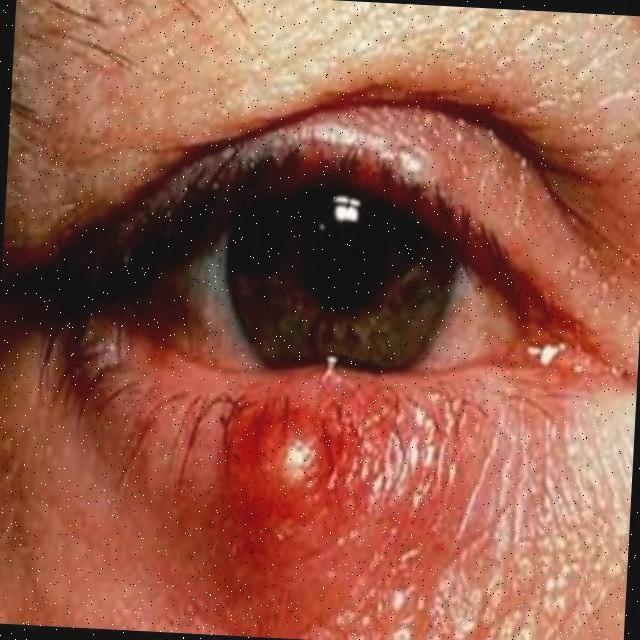Stye: (157, 316, 446, 604)
